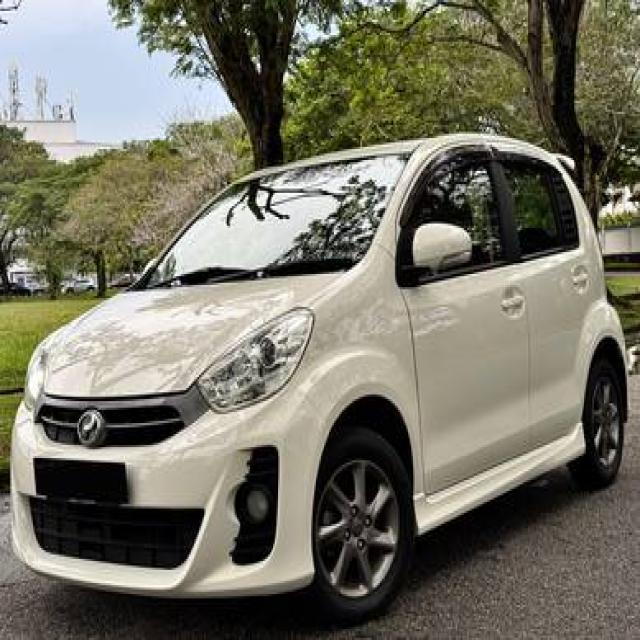PeroduaMyvi: (7, 127, 630, 625)
